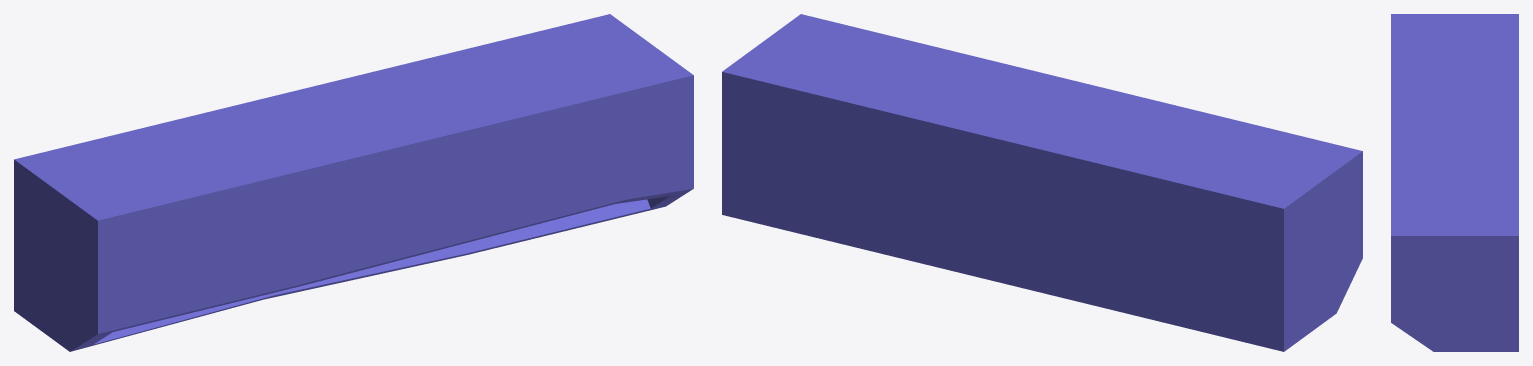
Rendered from Aircone_01.fbx.
The picture shows the model from 3 angles, left to right: view 1: azimuth 30°, elevation 25°; view 2: azimuth 150°, elevation 25°; view 3: azimuth 270°, elevation 25°; orthographic projection. The views are drawn at different scales.
Parts seen in each view (by area): view 1: SM_Prop_Aircon_01; view 2: SM_Prop_Aircon_01; view 3: SM_Prop_Aircon_01.
Boxes of the visible parts, x1,y1,x2,y2 form: SM_Prop_Aircon_01: (14,14,693,351); SM_Prop_Aircon_01: (722,14,1362,351); SM_Prop_Aircon_01: (1391,14,1518,351).
Bounding box in the file's own units: 1.84 × 0.4481 × 0.4481.
